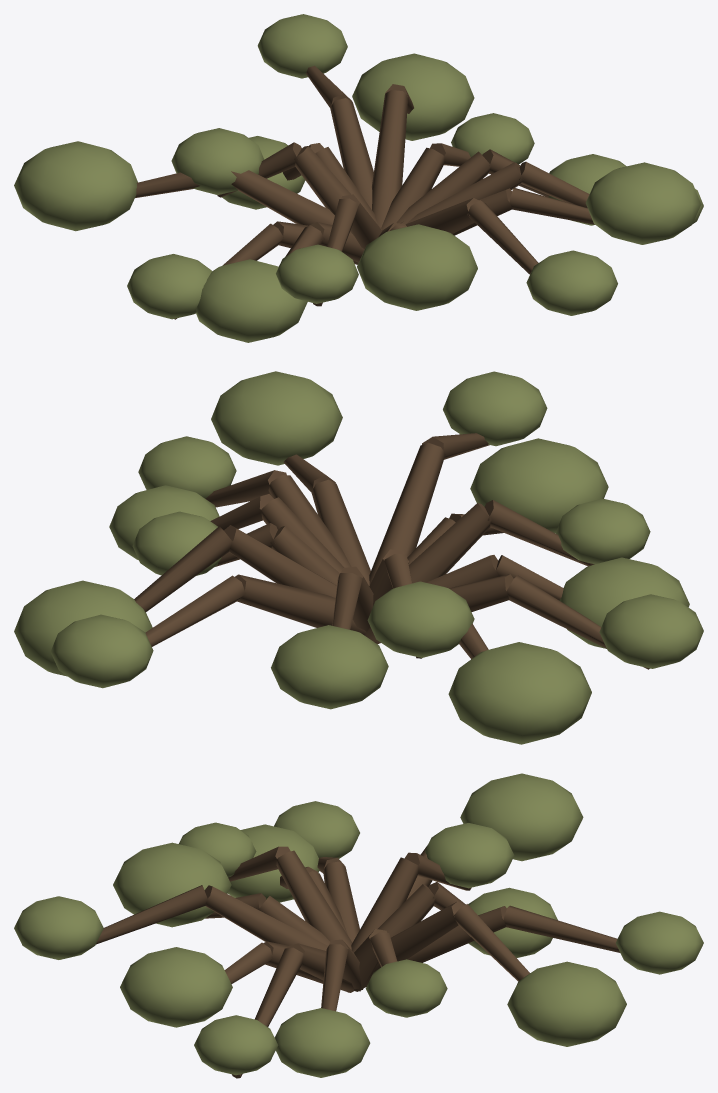
The model's file is shrub_dry_high.glb.
3 renders of one model, top to bottom at view 1: azimuth 30°, elevation 25°; view 2: azimuth 150°, elevation 25°; view 3: azimuth 270°, elevation 25°, orthographic. The views are drawn at different scales.
Size of the model in its own units: 2.09 by 0.4632 by 2.41.
